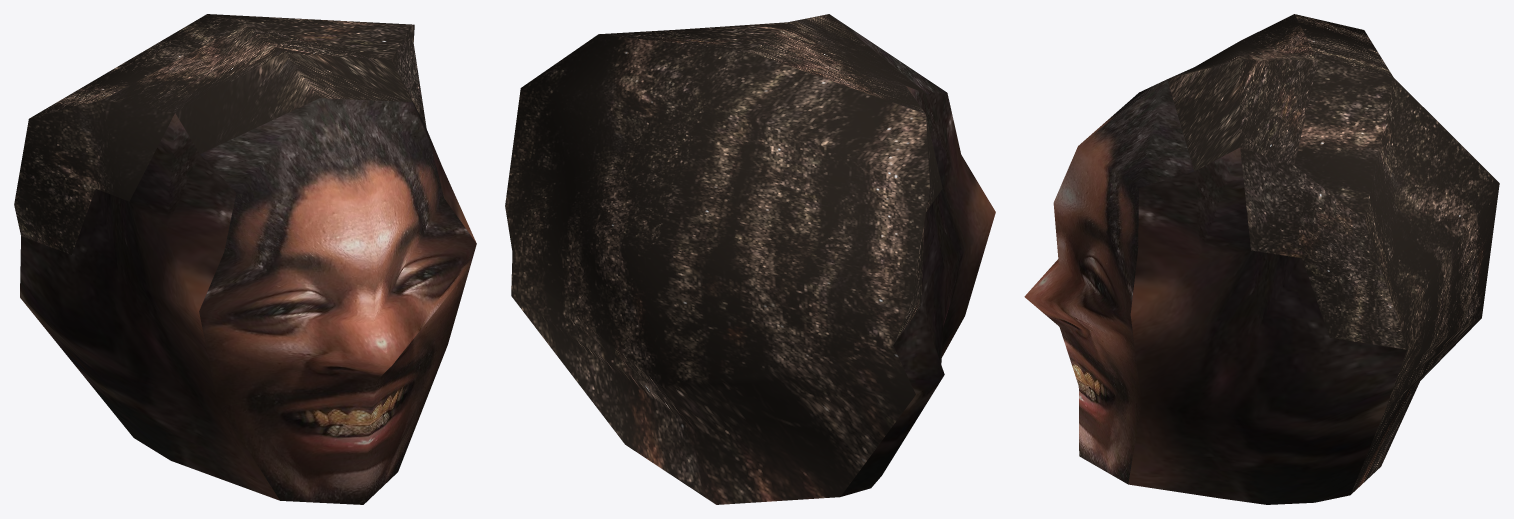
Rendered from head.gltf.
3 views of the same model, side by side, from view 1: azimuth 30°, elevation 25°; view 2: azimuth 150°, elevation 25°; view 3: azimuth 270°, elevation 25° (orthographic). The views are drawn at different scales.
Visible parts, largest first — view 1: head; view 2: head; view 3: head.
Boxes of the visible parts, left/top/right/bottom form: head: left=14, top=14, right=476, bottom=504; head: left=505, top=14, right=995, bottom=504; head: left=1024, top=14, right=1499, bottom=504.
Bounding box in the file's own units: 0.4855 × 0.4856 × 0.515.
3 materials, 3 textured.
